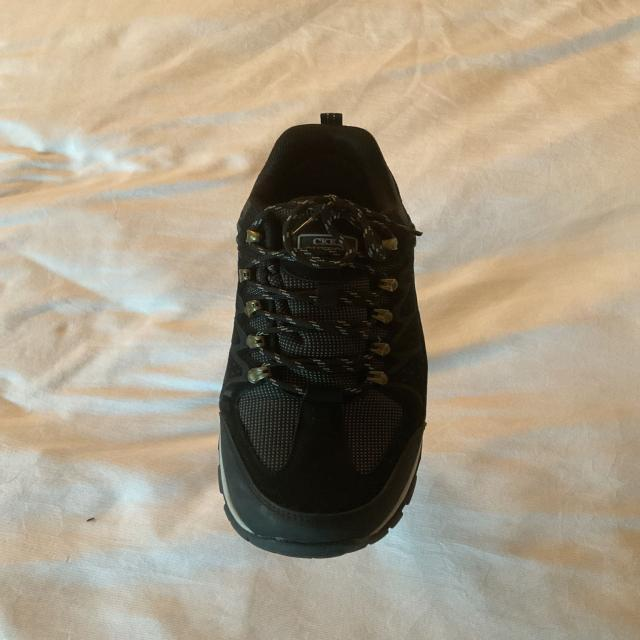shoe: (214, 112, 432, 560)
